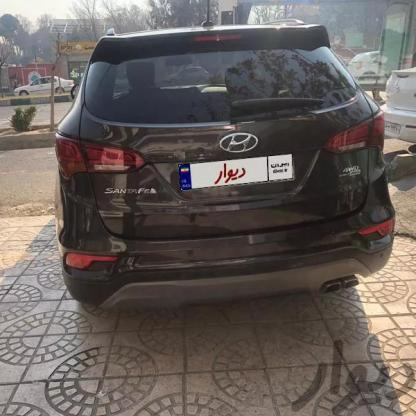Car: (42, 19, 382, 305), (380, 60, 416, 150), (17, 70, 72, 100)
